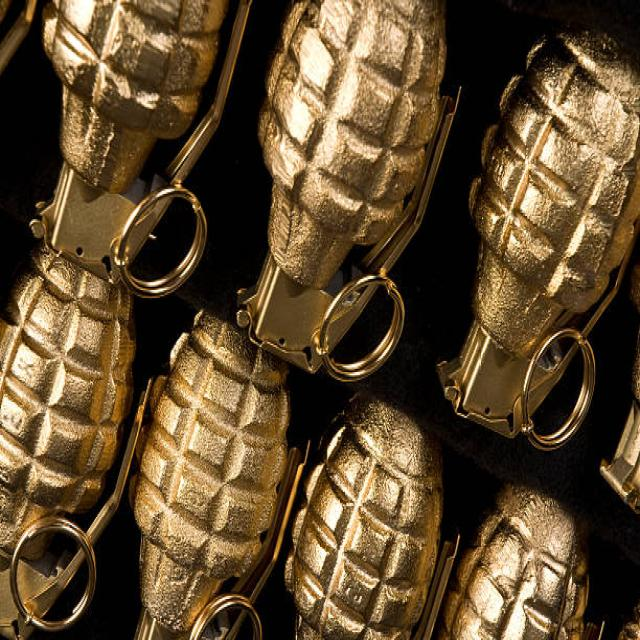grenade: (228, 1, 464, 384), (434, 24, 640, 456), (30, 1, 252, 301)
